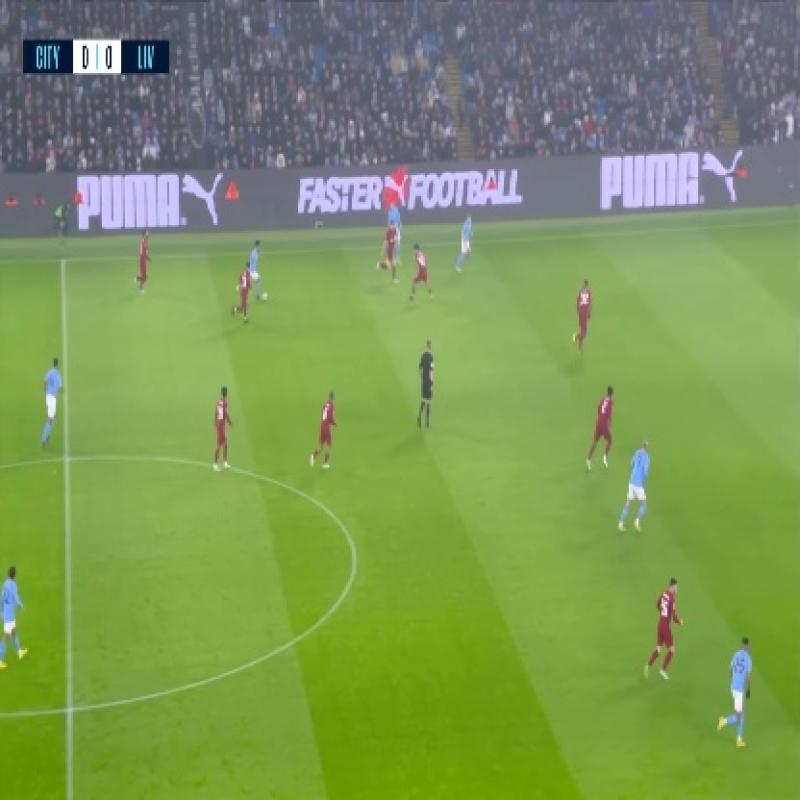13: (50, 242, 75, 279)
14: (48, 434, 80, 477)
15: (52, 684, 85, 732)
c: (338, 526, 372, 577)
